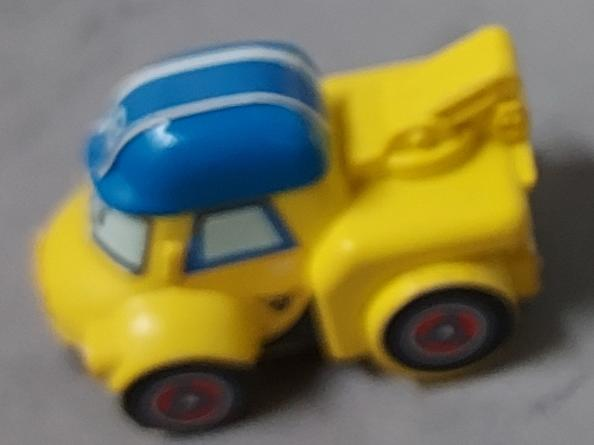car: (0, 1, 594, 445)
